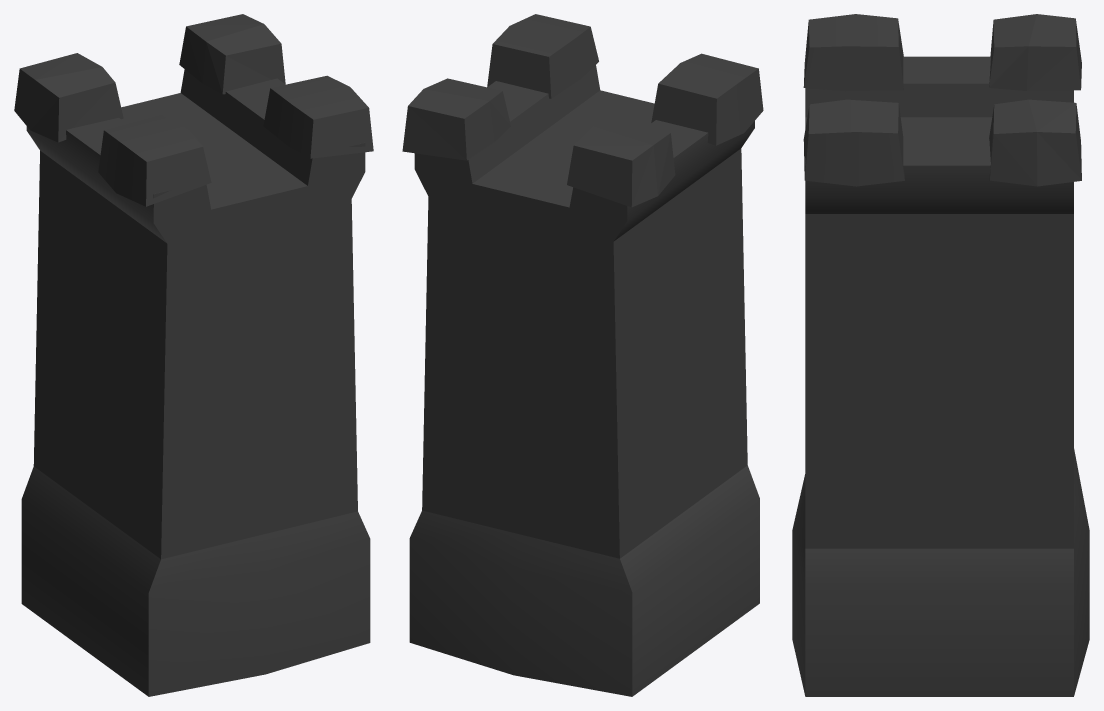
File: Stone_Wall.FBX
The picture shows the model from 3 angles, left to right: view 1: azimuth 30°, elevation 25°; view 2: azimuth 150°, elevation 25°; view 3: azimuth 270°, elevation 25°; orthographic projection. The views are drawn at different scales.
Visible parts, largest first — view 1: Stone_Wall; view 2: Stone_Wall; view 3: Stone_Wall.
Part boxes in pixels (x1,y1,x2,y2): Stone_Wall: (14,14,373,696); Stone_Wall: (402,14,763,696); Stone_Wall: (792,14,1089,696).
Size of the model in its own units: 243 by 249 by 525.
Materials: 1 (1 with a texture image).
